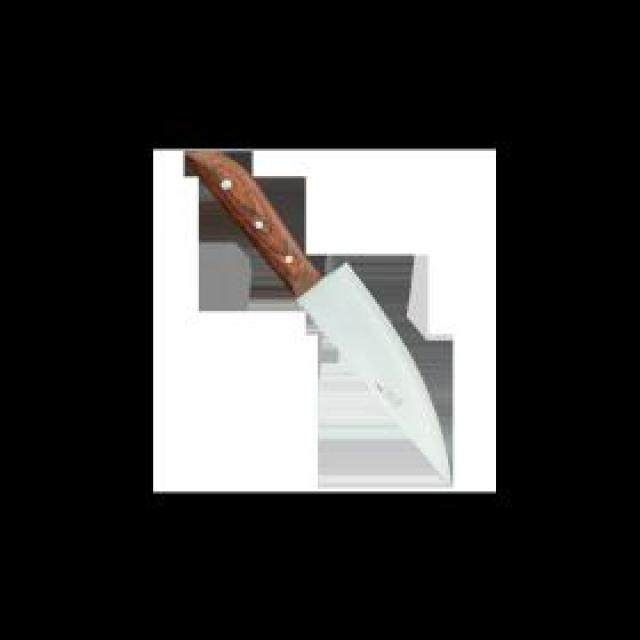knife: (183, 148, 457, 484)
